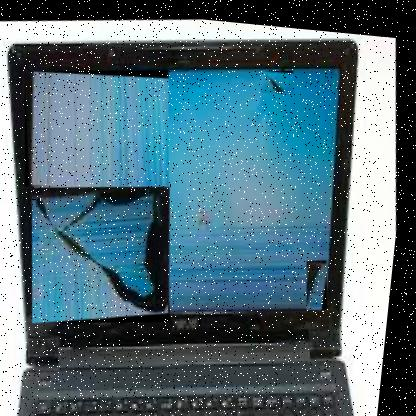crack: (25, 171, 188, 333)
lines: (17, 55, 182, 197)
spot: (307, 251, 338, 305), (260, 62, 297, 91)
